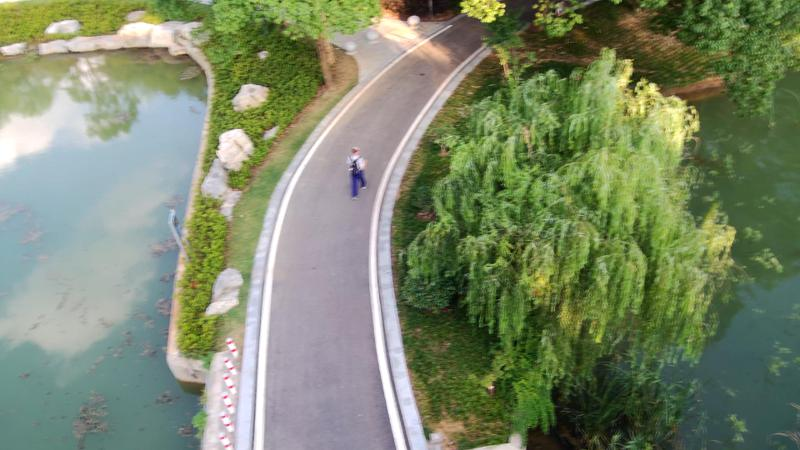passerby: (344, 144, 370, 201)
